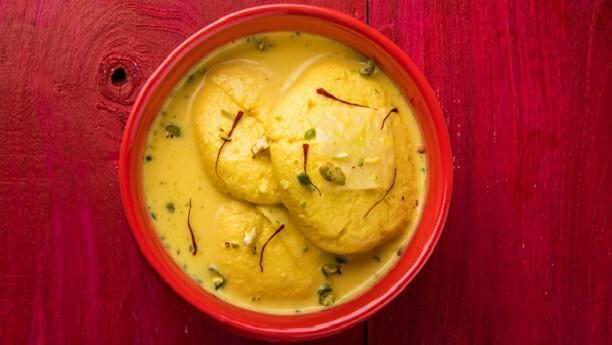RasMalai: (144, 30, 425, 312)
